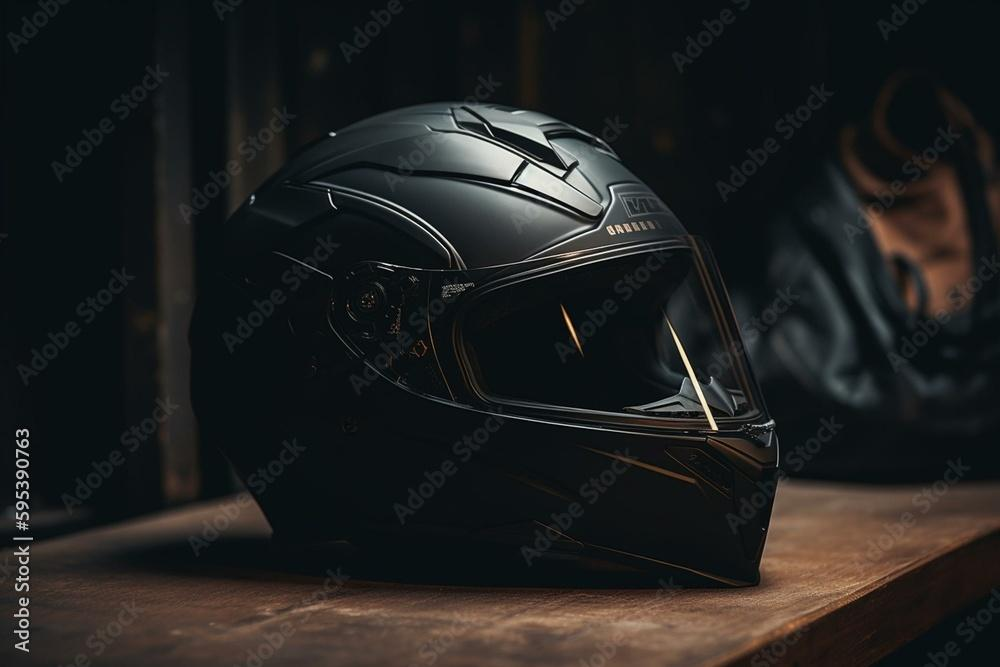helmet: (183, 98, 784, 593)
